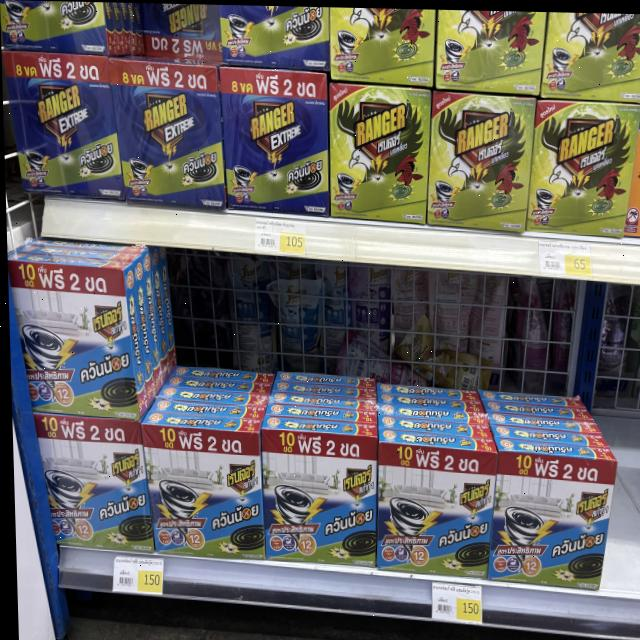empty_shelf: (129, 247, 618, 460), (604, 286, 640, 594), (114, 3, 217, 65)
